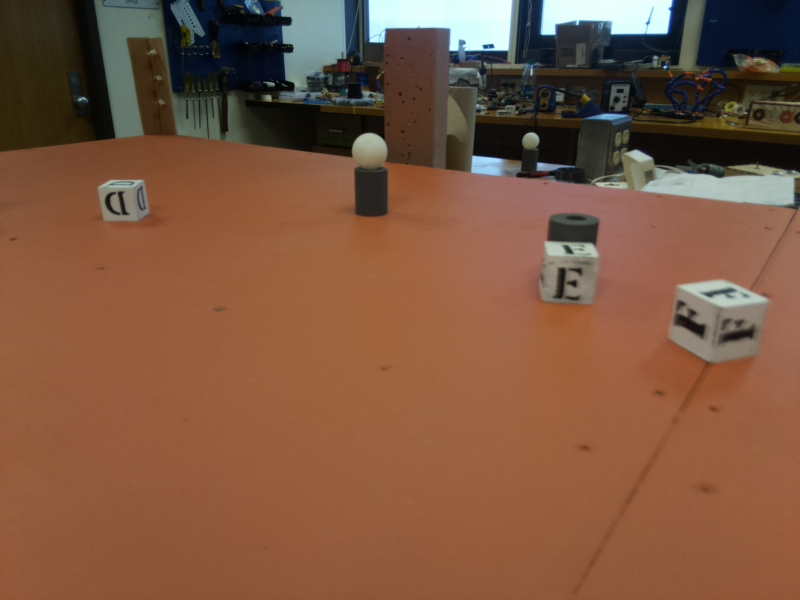blockD: (97, 173, 154, 227)
blockE: (540, 239, 599, 312)
blockF: (658, 276, 765, 363)
corner: (128, 36, 174, 135)
obstacle: (348, 131, 388, 218)
